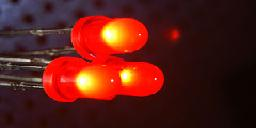LED: (1, 53, 123, 105), (56, 14, 146, 57), (117, 58, 167, 101)
